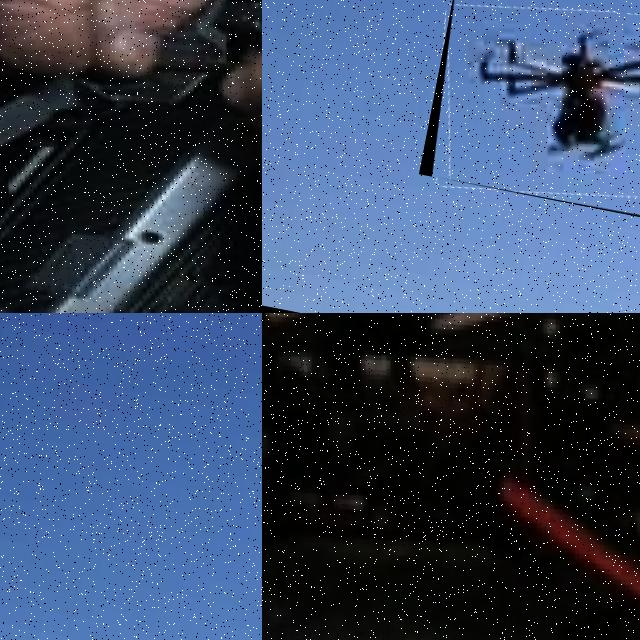drone: (262, 313, 640, 640), (0, 0, 262, 313), (419, 0, 640, 221)
